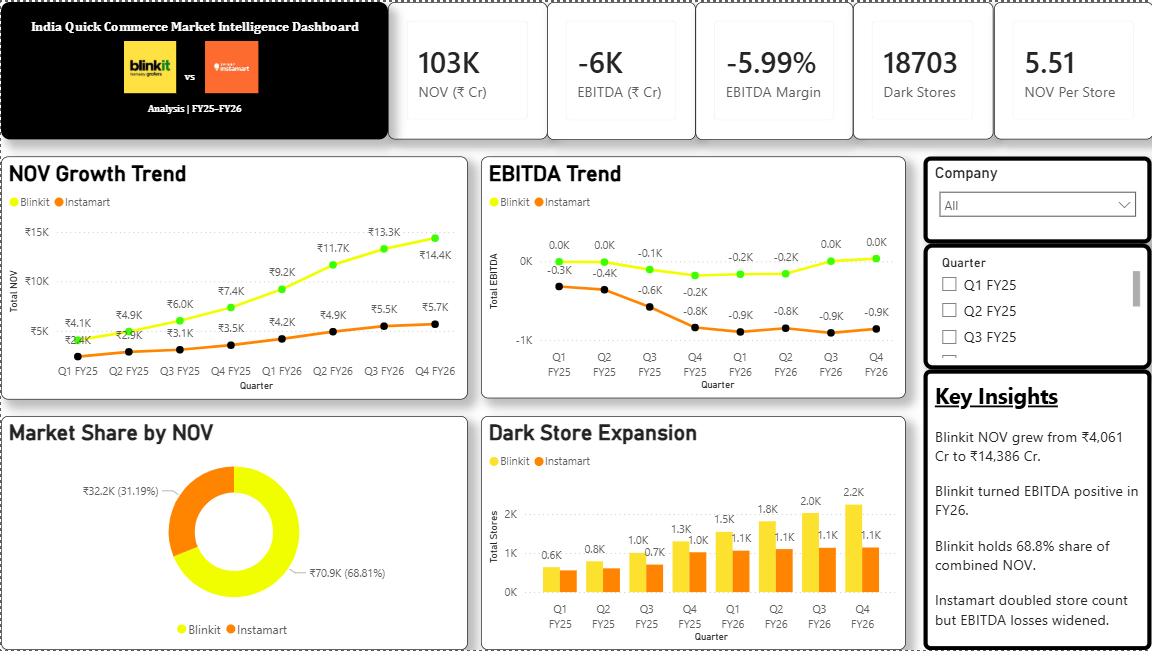

This screenshot's page, from the dashboard's own definition file:
{"tool":"powerbi","page":{"name":"Executive Summary","canvas":[1280,720],"ordinal":0},"visuals":[{"type":"cardVisual","fields":{"Data":["Fact_QuickCommerce.Total NOV"]},"box":[430,0,177.1,152.9],"z":0},{"type":"textbox","box":[0,0,430,152.9],"z":1000},{"type":"cardVisual","fields":{"Data":["Fact_QuickCommerce.Total EBITDA"]},"box":[606.7,0,165,153.3],"z":2000},{"type":"cardVisual","fields":{"Data":["Fact_QuickCommerce.EBITDA Margin %"]},"box":[771.7,0,175,153.3],"z":3000},{"type":"cardVisual","fields":{"Data":["Fact_QuickCommerce.Total Stores"]},"box":[947.1,0,155.7,152.9],"z":4000},{"type":"lineChart","title":"NOV Growth Trend","fields":{"Category":["Dim_Date.Quarter"],"Y":["Fact_QuickCommerce.Total NOV"],"Series":["Fact_QuickCommerce.Company"]},"box":[0,171.7,518.3,270],"z":5000},{"type":"lineChart","title":"EBITDA Trend","fields":{"Category":["Dim_Date.Quarter"],"Y":["Fact_QuickCommerce.Total EBITDA"],"Series":["Fact_QuickCommerce.Company"]},"box":[533.3,171.7,471.7,268.3],"z":6000},{"type":"donutChart","title":"Market Share by NOV","fields":{"Category":["Fact_QuickCommerce.Company"],"Y":["Fact_QuickCommerce.Total NOV"]},"box":[0,460,518.3,260],"z":7000},{"type":"clusteredColumnChart","title":"Dark Store Expansion","fields":{"Category":["Dim_Date.Quarter"],"Y":["Fact_QuickCommerce.Total Stores"],"Series":["Fact_QuickCommerce.Company"]},"box":[533.3,460,471.7,260],"z":8000},{"type":"slicer","title":"Company","fields":{"Values":["Fact_QuickCommerce.Company"]},"box":[1025,171.7,253.3,96.7],"z":9000},{"type":"slicer","fields":{"Values":["Dim_Date.Quarter"]},"box":[1025,268.3,253.3,140],"z":10000},{"type":"cardVisual","fields":{"Data":["Fact_QuickCommerce.NOV Per Store"]},"box":[1102.9,0,177.1,152.9],"z":11000},{"type":"textbox","box":[1025,408.3,253.3,311.7],"z":12000},{"type":"image","box":[133,44,65,58],"z":13000},{"type":"image","box":[226.3,44.1,59.3,57.8],"z":14000}]}

Visuals, with their boxes in screenshot pixels (x1, y1, x2, y2), scaled from the page's 1280x720 canvas onto the 1152x651 screenshot:
cardVisual - Fact_QuickCommerce.Total NOV: Rect(387, 0, 546, 138)
textbox: Rect(0, 0, 387, 138)
cardVisual - Fact_QuickCommerce.Total EBITDA: Rect(546, 0, 695, 139)
cardVisual - Fact_QuickCommerce.EBITDA Margin %: Rect(695, 0, 852, 139)
cardVisual - Fact_QuickCommerce.Total Stores: Rect(852, 0, 993, 138)
"NOV Growth Trend" lineChart: Rect(0, 155, 466, 399)
"EBITDA Trend" lineChart: Rect(480, 155, 904, 398)
"Market Share by NOV" donutChart: Rect(0, 416, 466, 650)
"Dark Store Expansion" clusteredColumnChart: Rect(480, 416, 904, 650)
"Company" slicer: Rect(922, 155, 1150, 243)
slicer - Dim_Date.Quarter: Rect(922, 243, 1150, 369)
cardVisual - Fact_QuickCommerce.NOV Per Store: Rect(993, 0, 1151, 138)
textbox: Rect(922, 369, 1150, 650)
image: Rect(120, 40, 178, 92)
image: Rect(204, 40, 257, 92)
